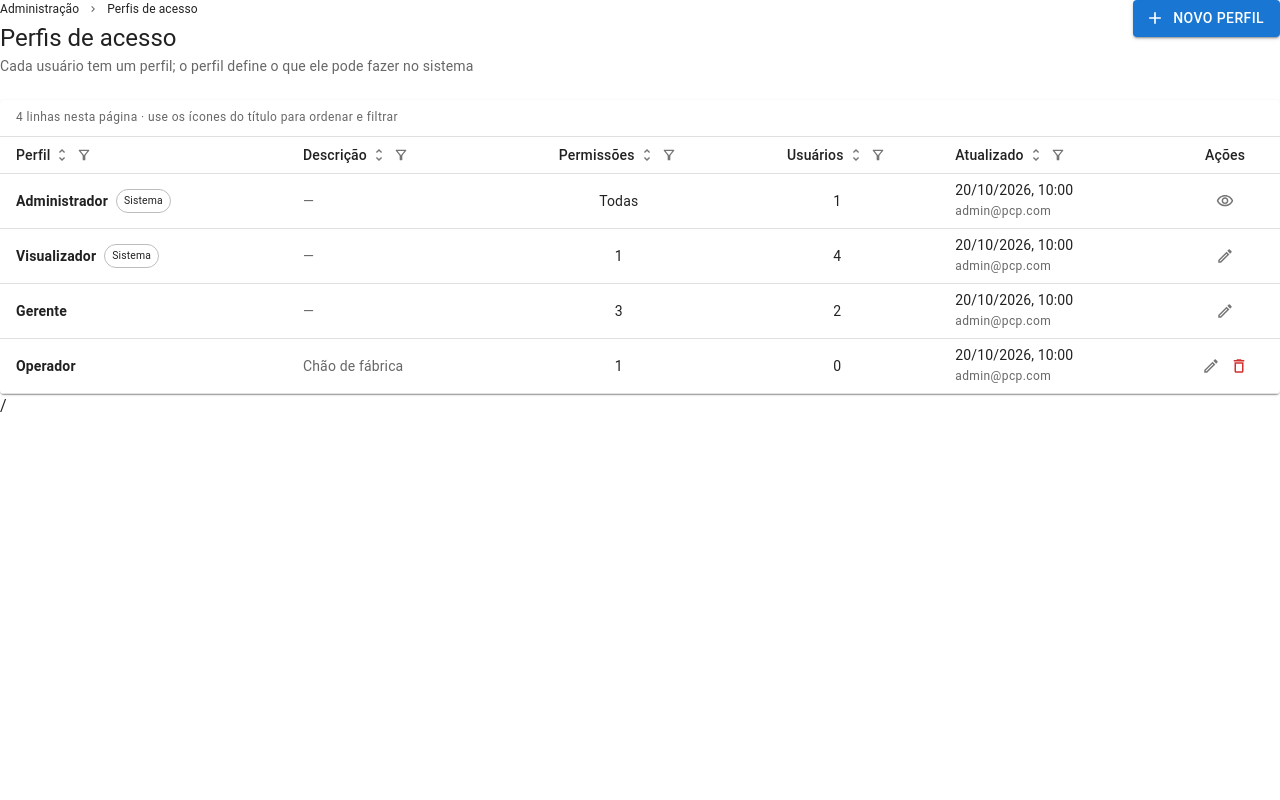
PerfisAcessoPage › exige nome e ao menos uma permissão antes de enviar
The width and height of the screenshot is (1280, 800).
Click the button "Novo perfil": (1207, 18) [1133,0,1279,36]
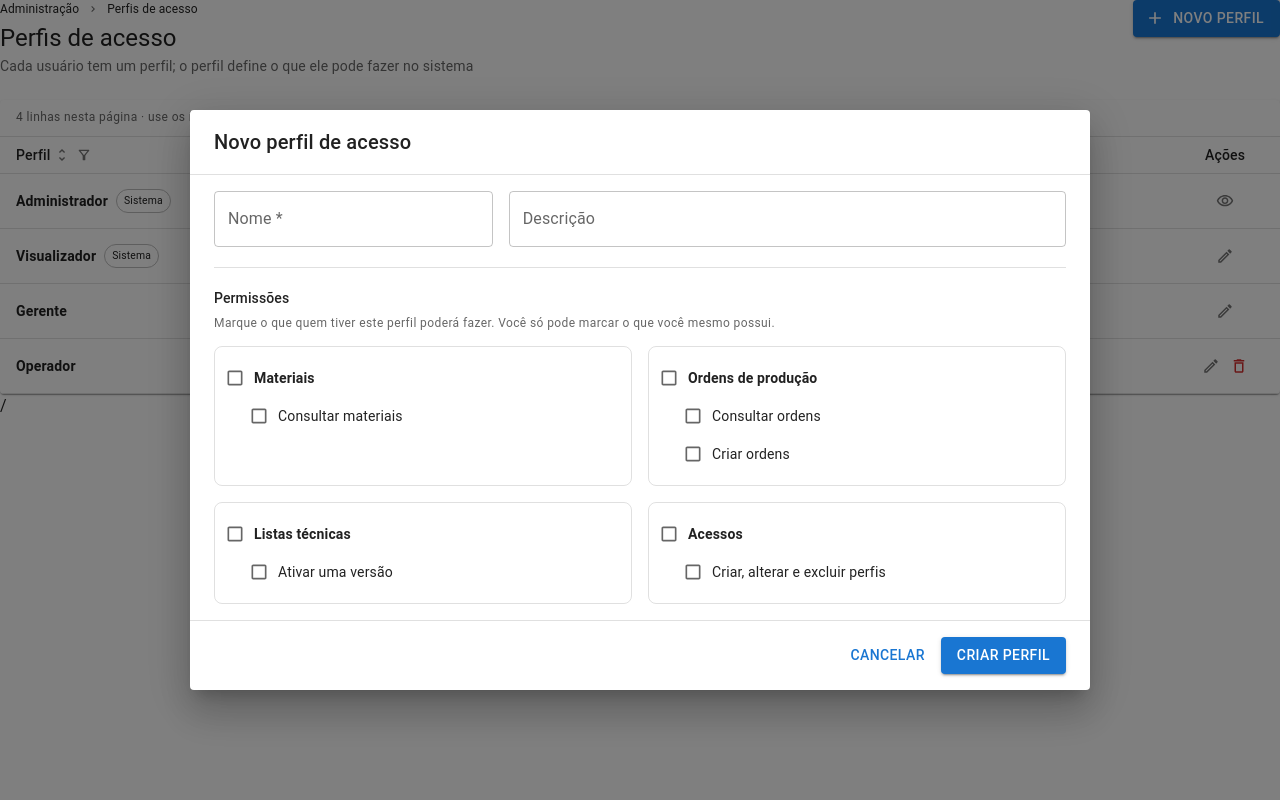
Click the button "Criar perfil": (1003, 655) [941,637,1066,674]
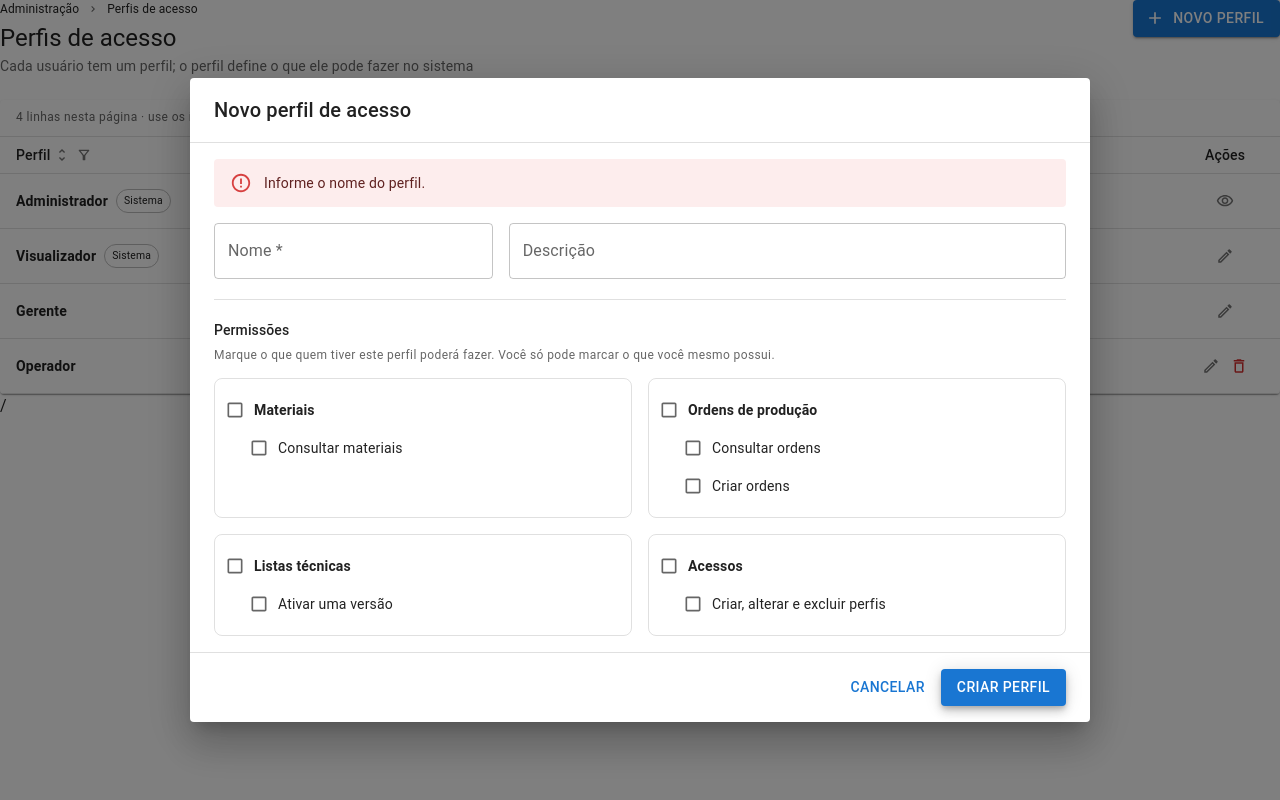
Expected: the text "Informe o nome do perfil." is shown, [264,175,425,191]
In the field labelled "Nome *": (353, 251) [214,223,493,279], type "Sem permissões"
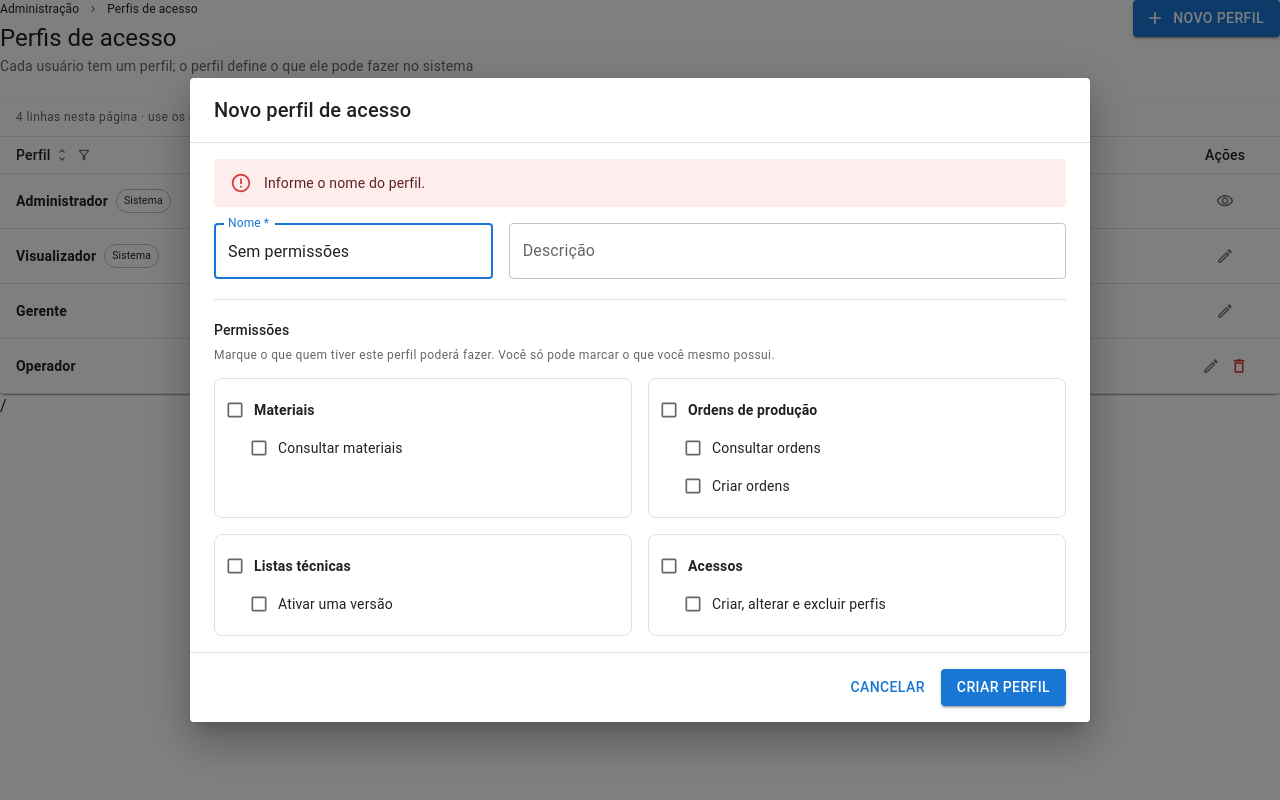
Click the button "Criar perfil": (1003, 687) [941,669,1066,706]
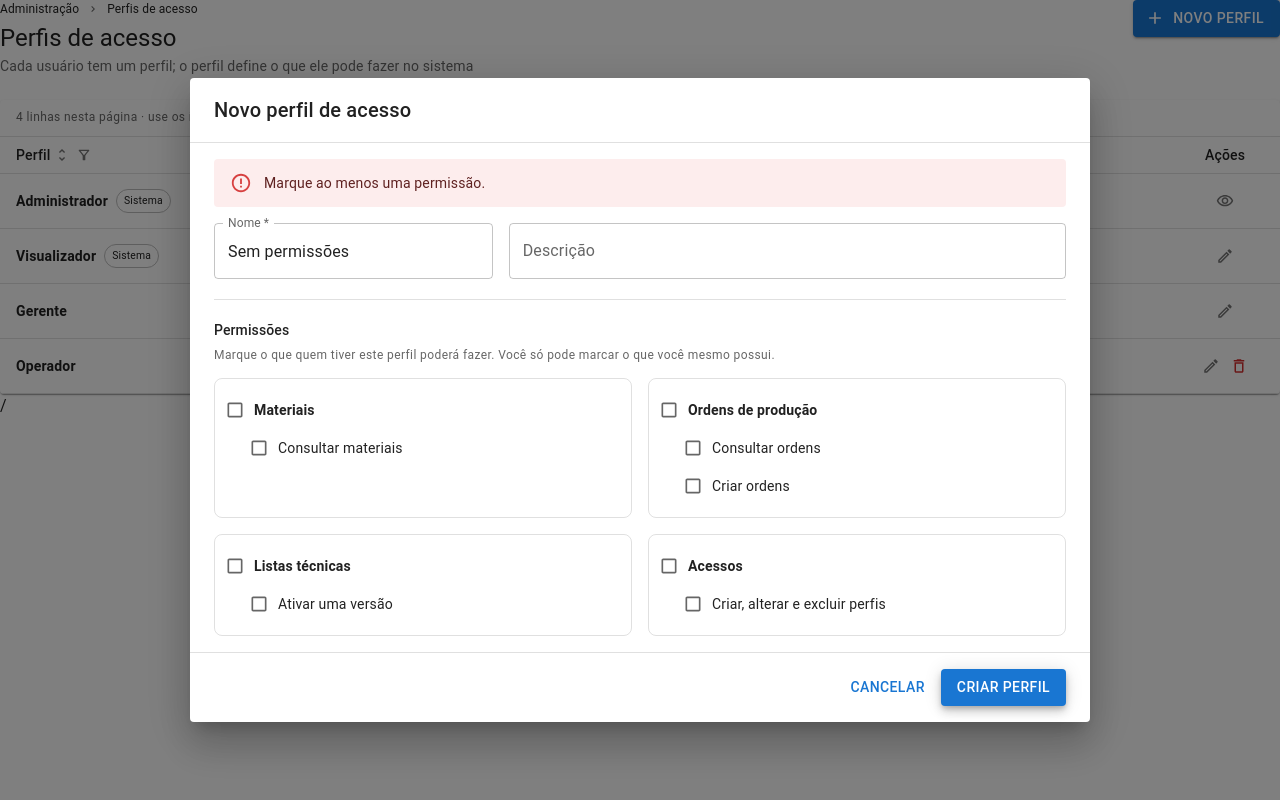
Expected: the text "Marque ao menos uma permissão." is shown, [264,175,485,191]
